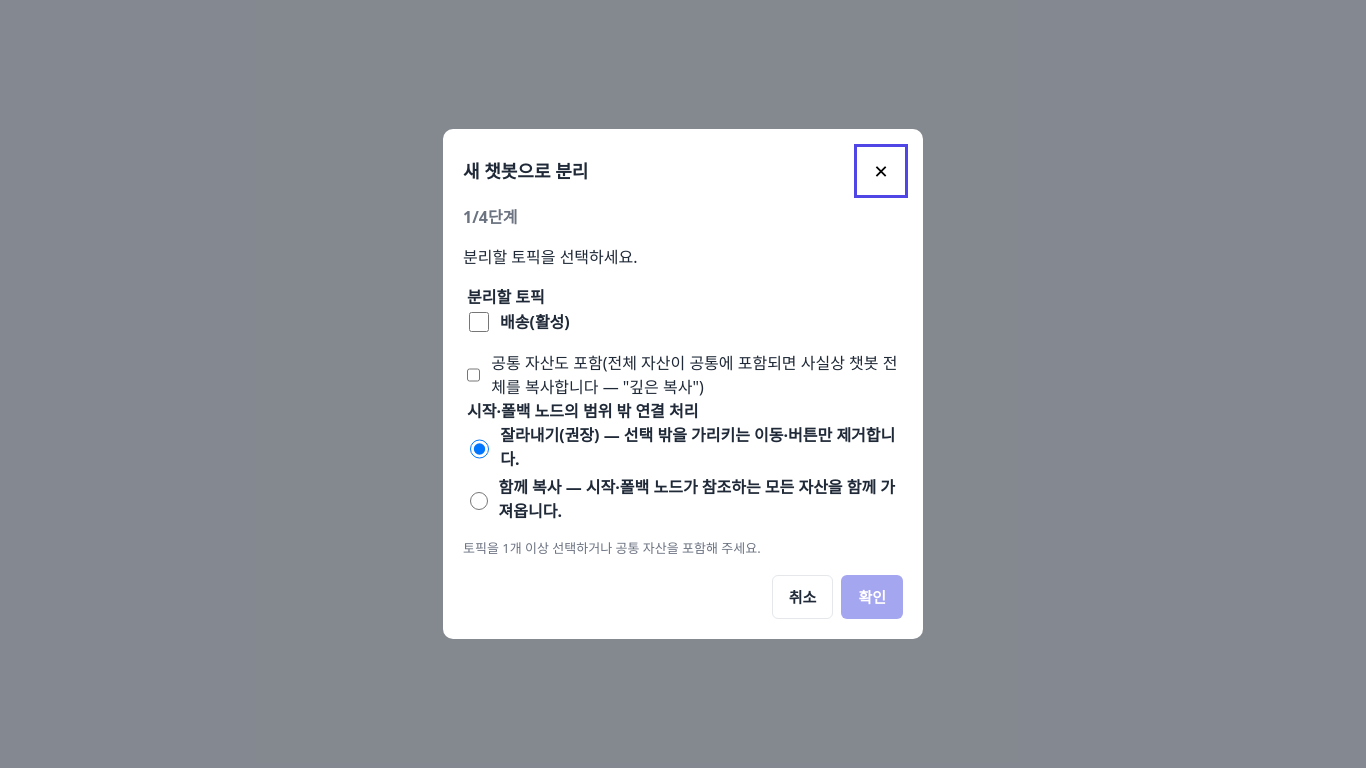
TopicSplitWizard — 잘라낸/따라간 연결의 간선 라벨·사유 › 잘라낸 연결에 간선 라벨(이동/버튼)이 붙는다
Click the checkbox labelled "배송(활성)" at {"x": 479, "y": 322}, box left=469, top=312, right=489, bottom=332
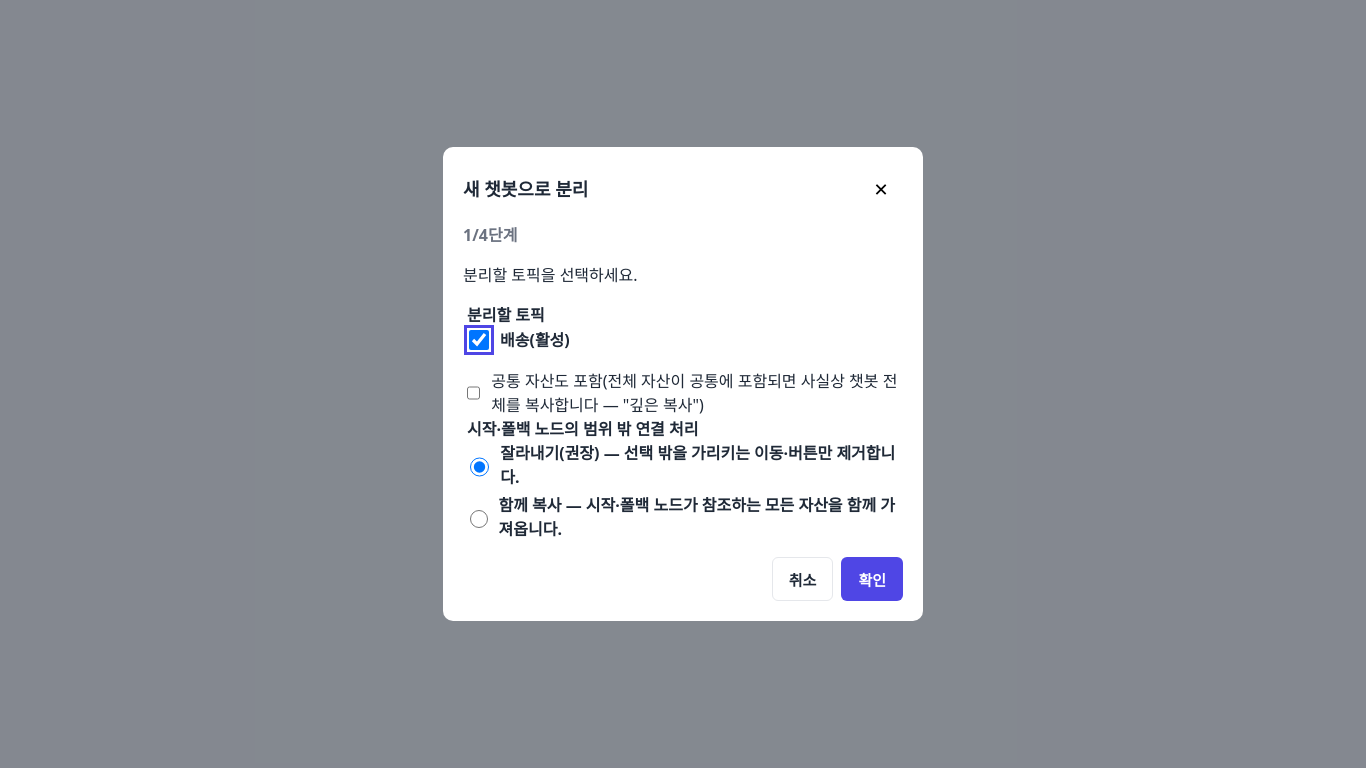
Click the button "확인" at {"x": 872, "y": 579}, box left=841, top=557, right=903, bottom=601
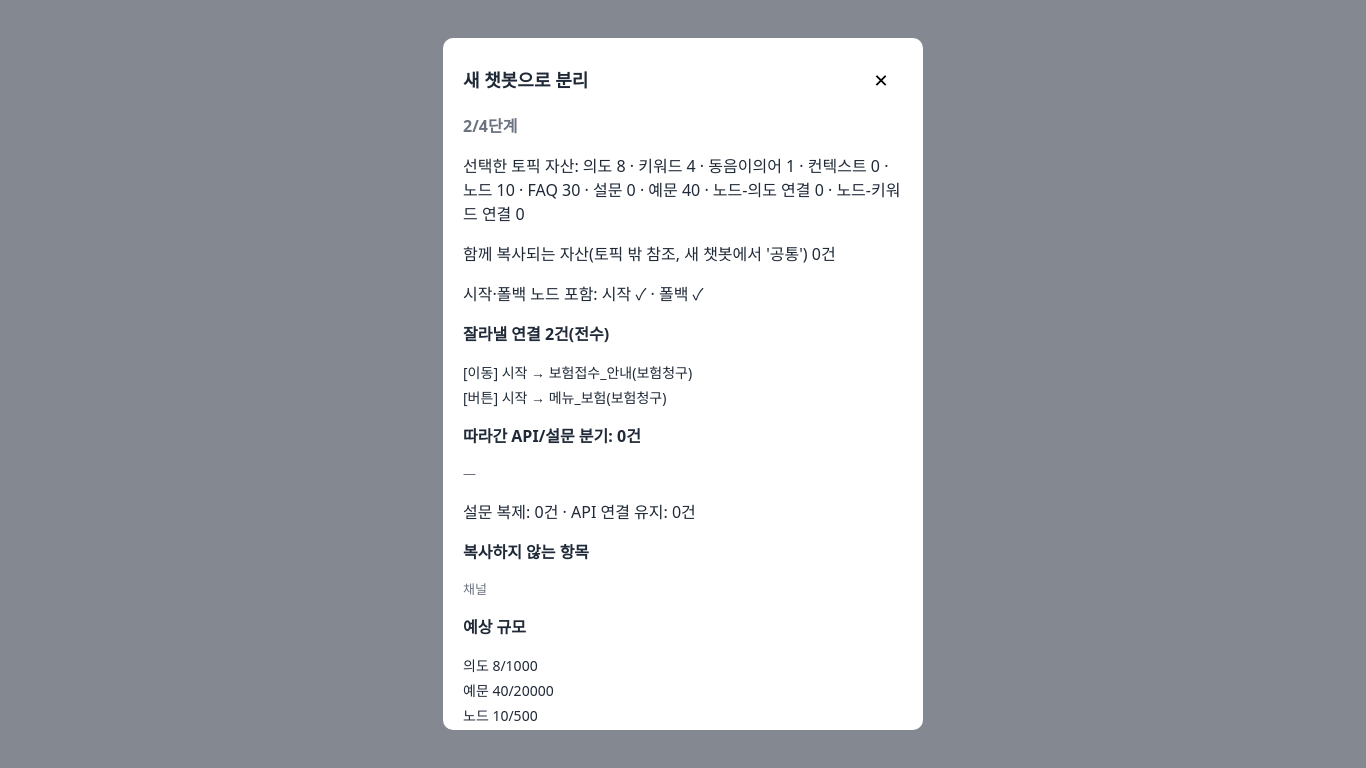
Expected: the text "2/4단계" is shown, left=463, top=115, right=517, bottom=137
